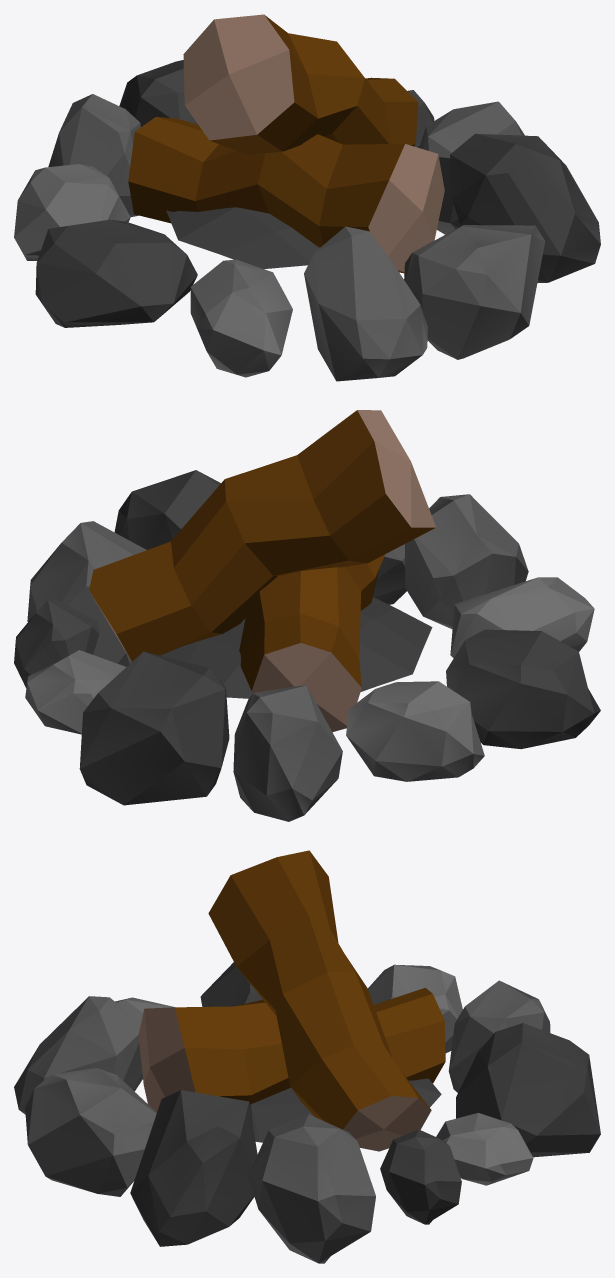
File: hoguera.fbx
The picture shows the model from 3 angles, top to bottom: view 1: azimuth 30°, elevation 25°; view 2: azimuth 150°, elevation 25°; view 3: azimuth 270°, elevation 25°; orthographic projection. The views are drawn at different scales.
Visible parts, largest first — view 1: Hoguera; view 2: Hoguera; view 3: Hoguera.
Part boxes in pixels (bbox=[...]): Hoguera: bbox=[14, 14, 600, 381]; Hoguera: bbox=[14, 410, 600, 821]; Hoguera: bbox=[14, 850, 600, 1263].
Bounding box in the file's own units: 77.71 × 44.81 × 79.96.
1 material, 1 textured.
